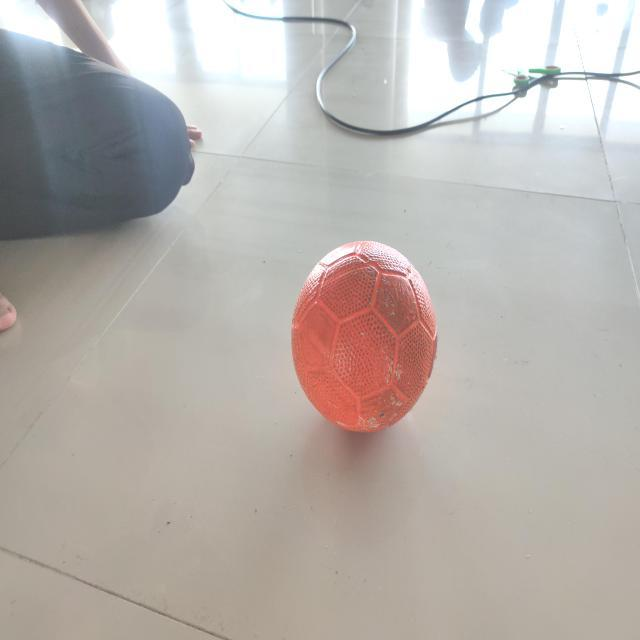bola: (292, 238, 442, 430)
